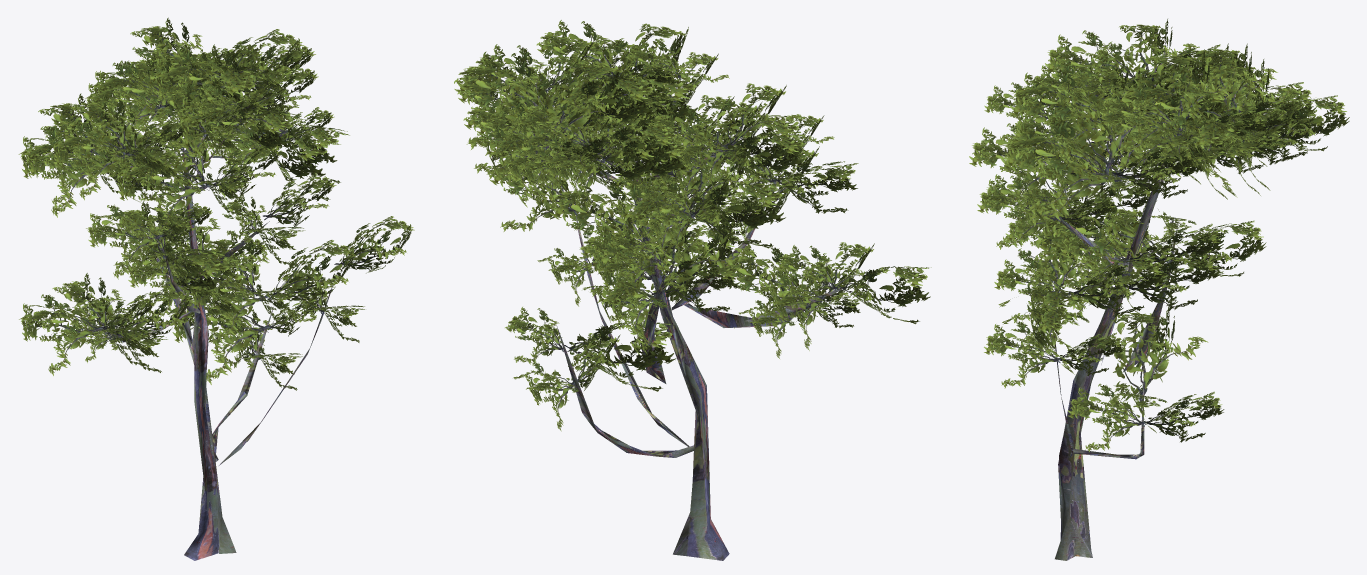
File: LowPolyTree9_4.fbx
3 views of the same model, side by side, from view 1: azimuth 30°, elevation 25°; view 2: azimuth 150°, elevation 25°; view 3: azimuth 270°, elevation 25° (orthographic). The views are drawn at different scales.
Parts seen in each view (by area): view 1: Tree9_4; view 2: Tree9_4; view 3: Tree9_4.
Part boxes in pixels (<box>): Tree9_4: <box>18,17,414,560</box>; Tree9_4: <box>454,20,931,560</box>; Tree9_4: <box>969,19,1349,560</box>.
Size of the model in its own units: 2021 by 2253 by 1533.
